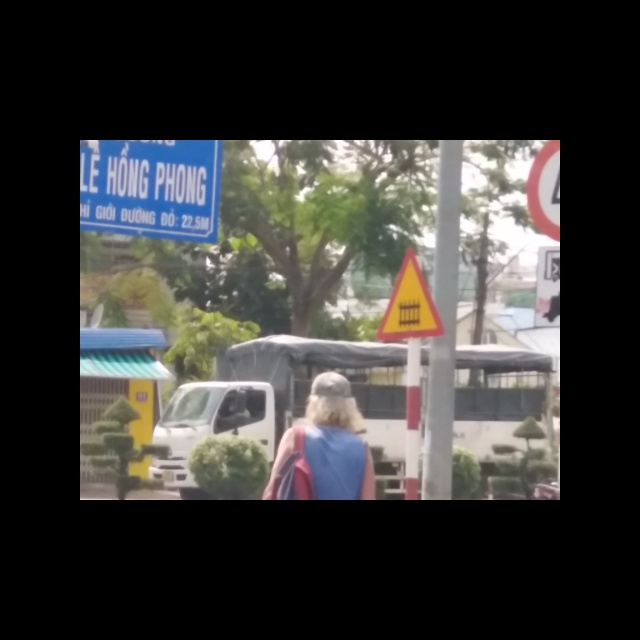Giao nhau với đường sắt có rào chắn: (373, 247, 444, 341)
